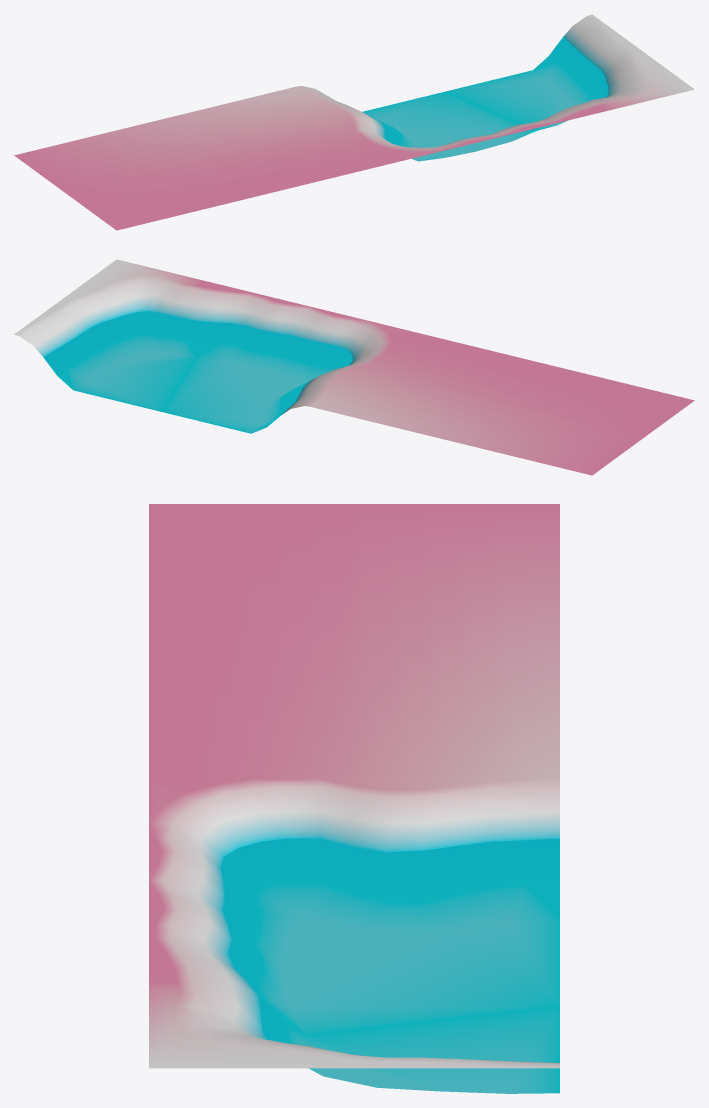
Rendered from Side-forest-water_end_01.glb.
The picture shows the model from 3 angles, top to bottom: view 1: azimuth 30°, elevation 25°; view 2: azimuth 150°, elevation 25°; view 3: azimuth 270°, elevation 25°; orthographic projection. The views are drawn at different scales.
Parts seen in each view (by area): view 1: Side-forest-water_end_01; view 2: Side-forest-water_end_01; view 3: Side-forest-water_end_01.
Part boxes in pixels (x1,y1,x2,y2): Side-forest-water_end_01: (14,14,694,230); Side-forest-water_end_01: (14,259,694,475); Side-forest-water_end_01: (149,504,559,1093).
Bounding box in the file's own units: 58.5 × 4 × 18.
